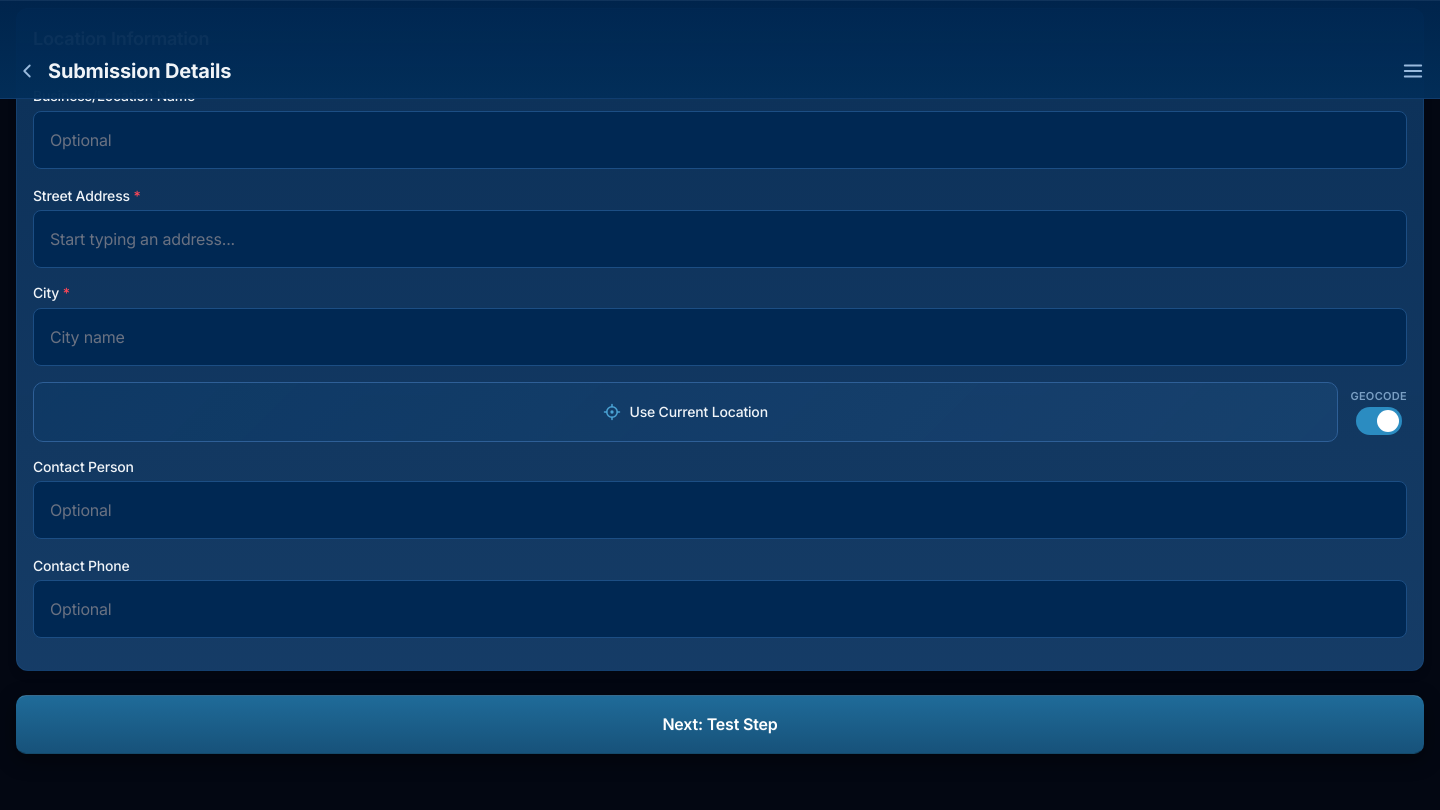
Submission — GPS capture › says so — honestly — when the address lookup yields nothing, and keeps the fix
(page scrolled)
Click the button "Use Current Location" at (686, 412), box left=33, top=382, right=1338, bottom=442
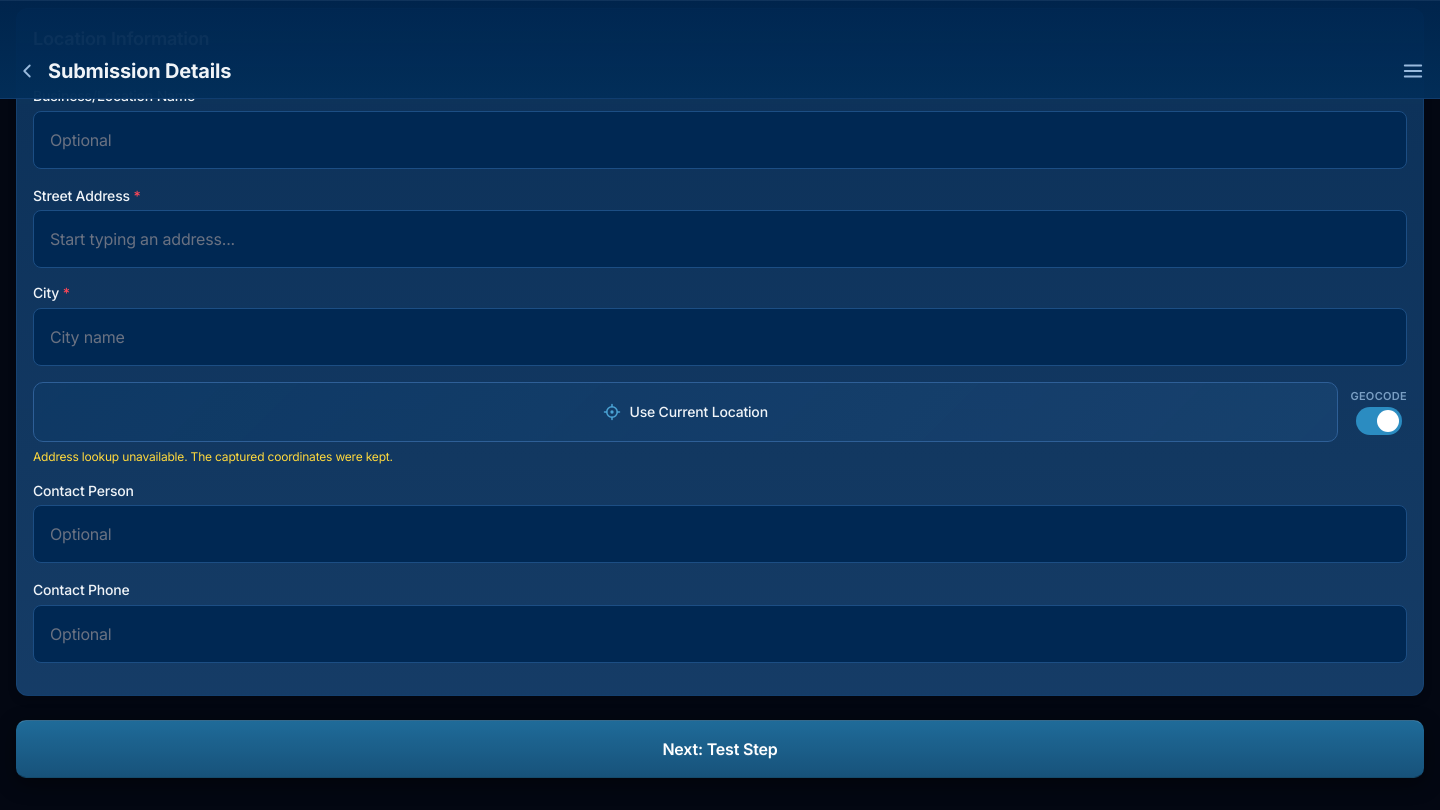
Check: the message with test id "reverse-geocode-notice" reads "Address lookup unavailable. The captured coordinates were kept.", box left=33, top=448, right=393, bottom=464
